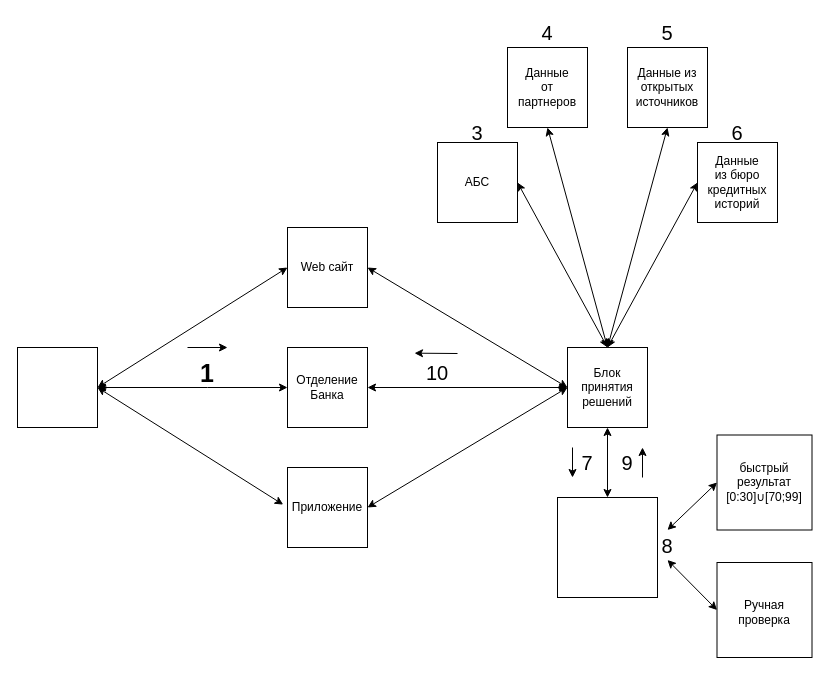
Image size: 830x675. Some labels were removed from this diagram. The centre of each missing label's shape, as x and y in pixels:
"Аналитический блок" goes at point 607,547.
"Клиент" goes at point 57,387.
